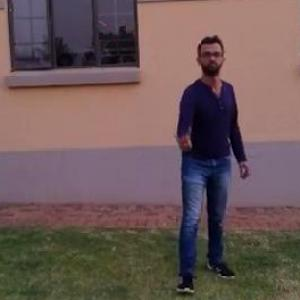takeoff-hand: (168, 120, 200, 160)
